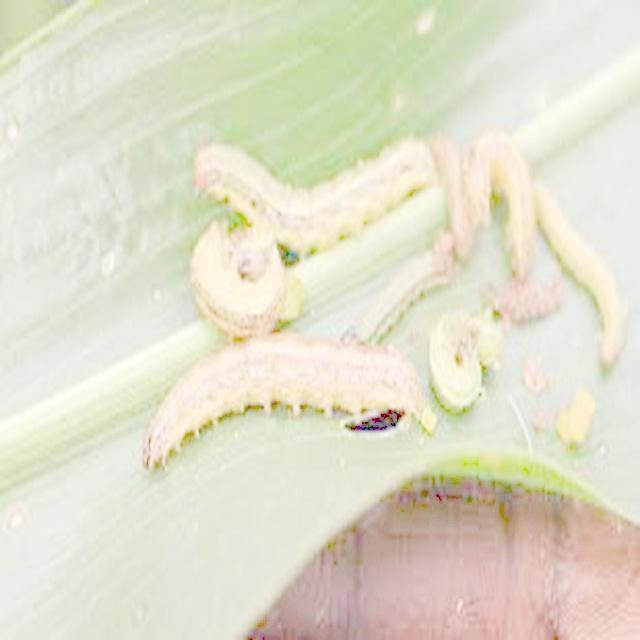gusano_cogollero: (136, 330, 428, 466)
